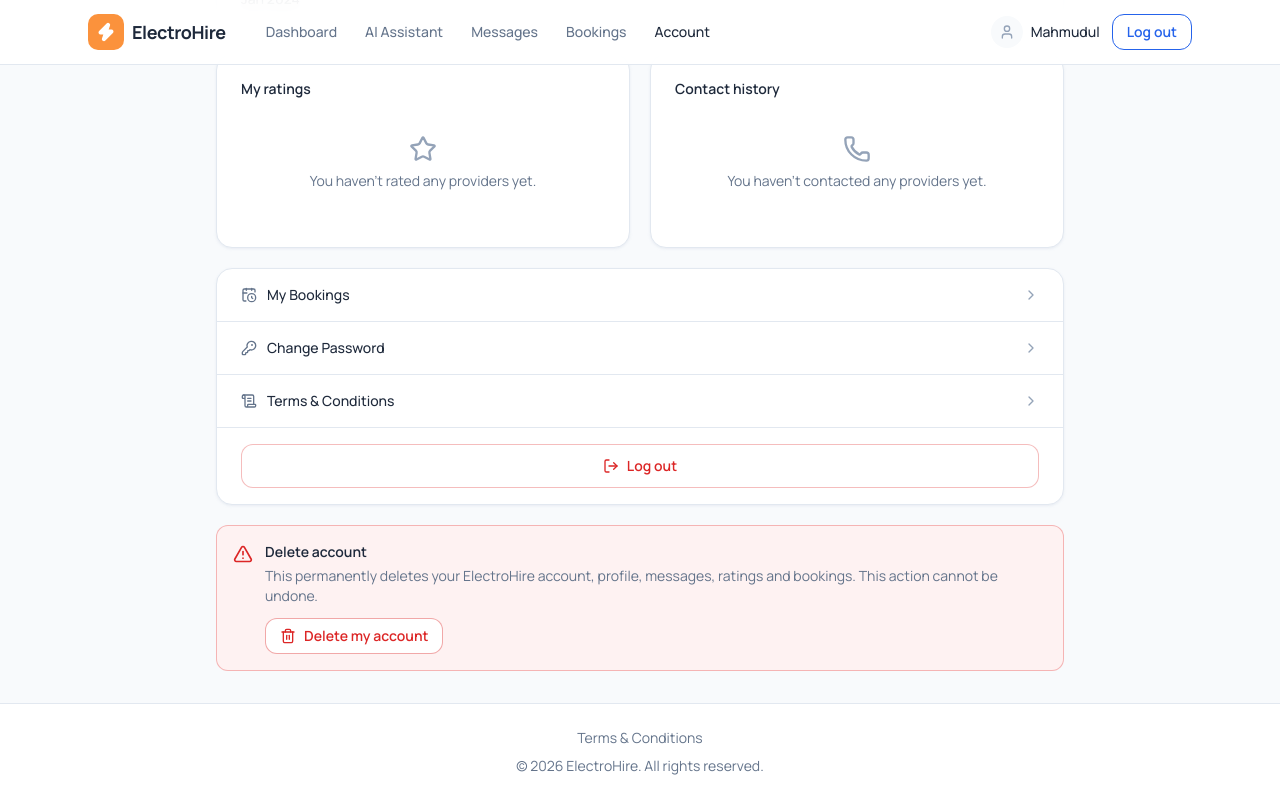
Test: AccountPage — Delete account › deletes the account, clears the session, and redirects to the home page
The image size is (1280, 800).
(page scrolled)
Click the button "Delete my account" at (354, 636), box [265,618,444,654]
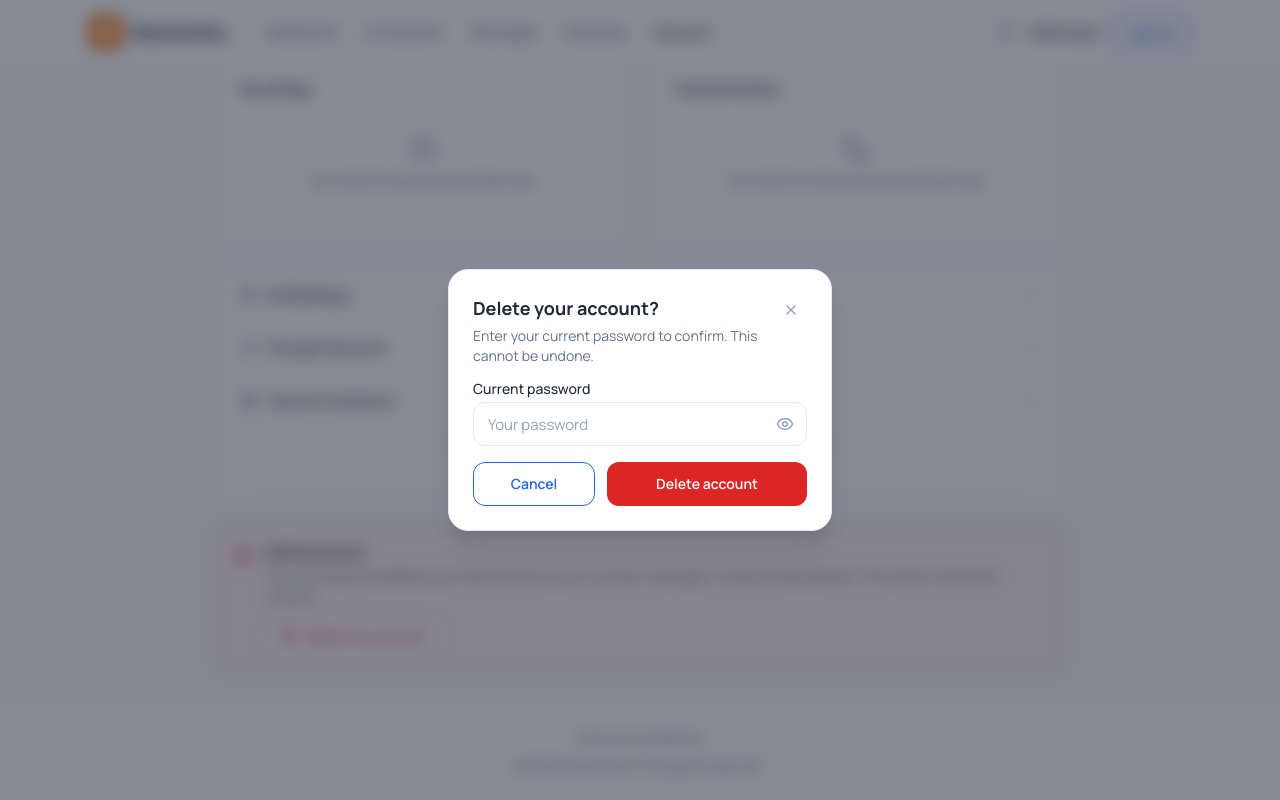
Result: the heading "Delete your account?" is shown at [473,296,659,320]
Type "correct-password" into the password field labelled "Current password" at (640, 424), box [473,402,807,446]
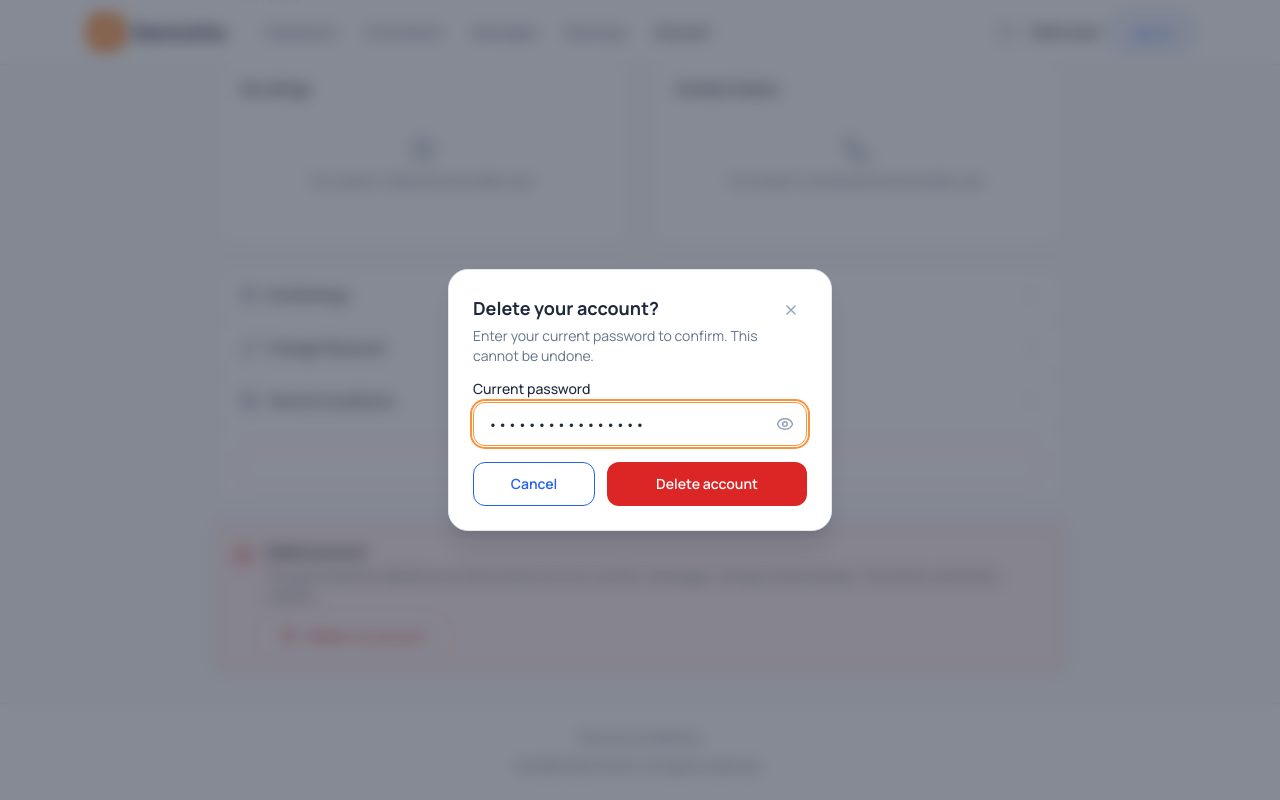
Click the button "Delete account" at (707, 484), box [607,462,807,506]
(page scrolled)
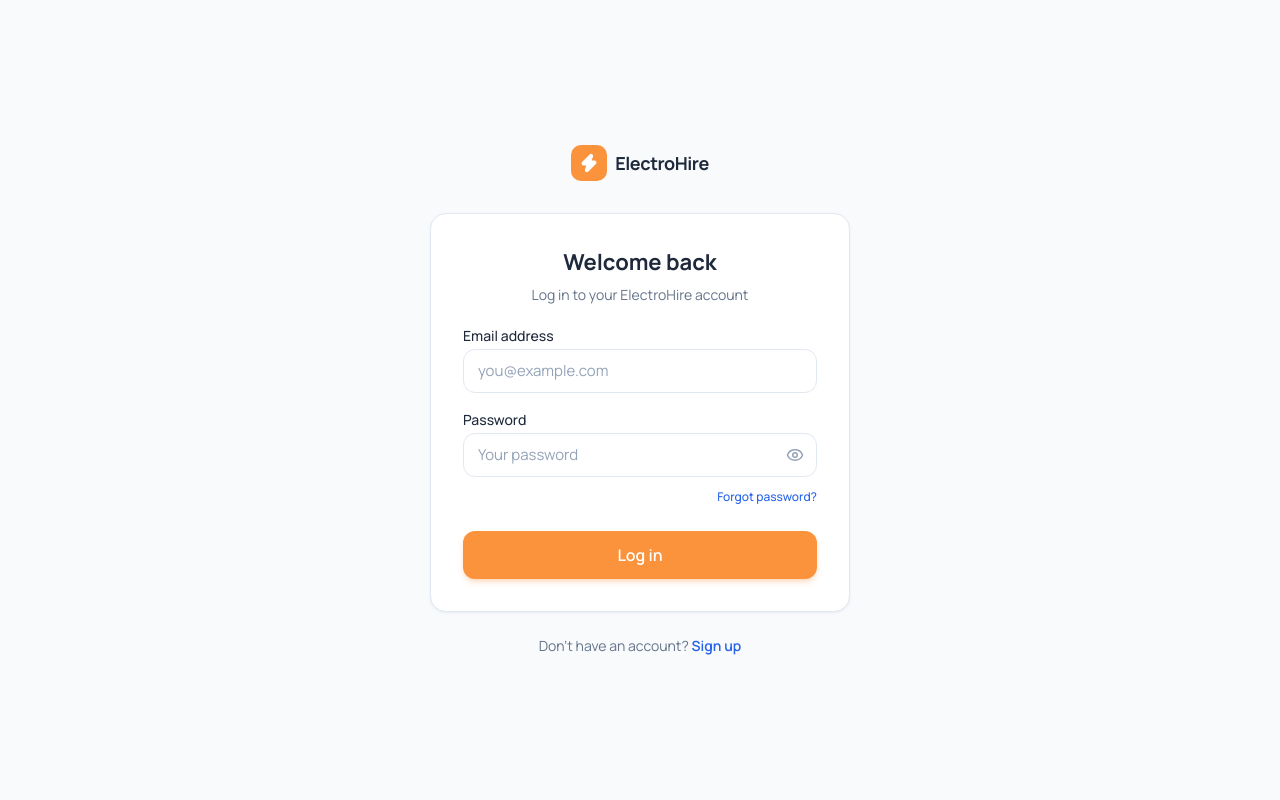
Result: the button "Log in" is shown at [463,530,817,578]
